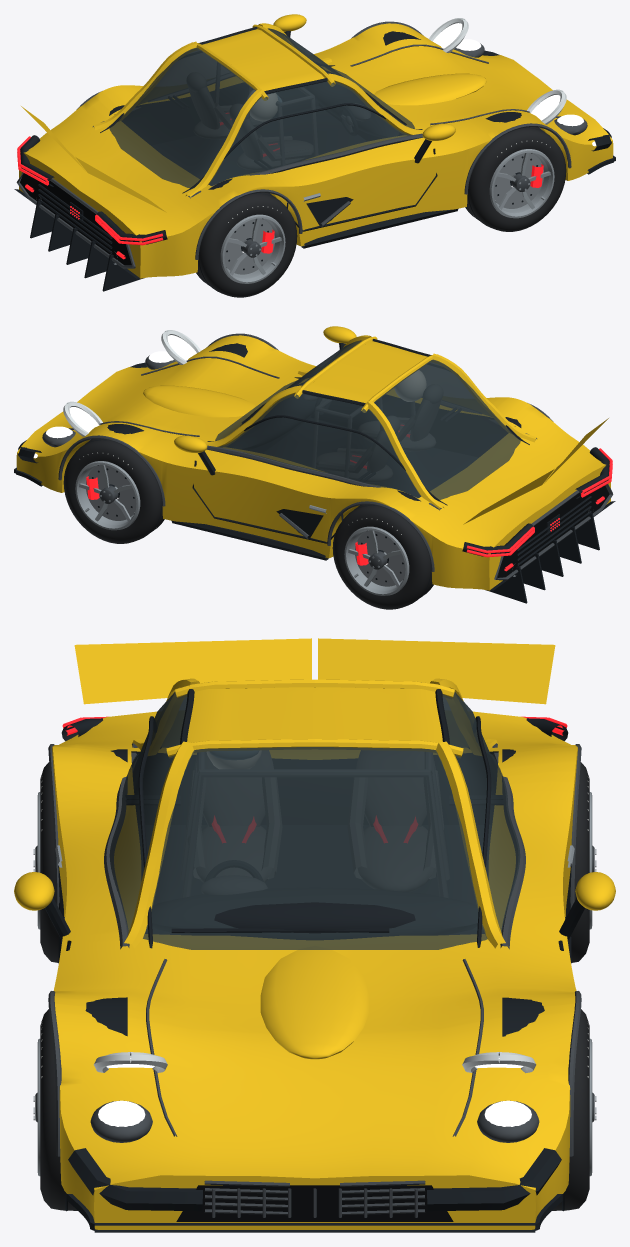
The model's file is fleet-4.glb.
3 renders of one model, top to bottom at view 1: azimuth 30°, elevation 25°; view 2: azimuth 150°, elevation 25°; view 3: azimuth 270°, elevation 25°, orthographic. The views are drawn at different scales.
Parts seen in each view (by area): view 1: GT_body, GT_glazing, GT_tyre, GT_cockpit_floor, GT_roof, GT_cockpit_tub, GT_roof_pillar.001, GT_alloy_disc, GT_diffuser_fin, GT_bonnet_power_bulge, GT_alloy_bead, GT_rear_fascia (+31 smaller); view 2: GT_body, GT_glazing, GT_tyre, GT_cockpit_floor, GT_cockpit_tub, GT_roof, GT_roof_pillar.001, GT_alloy_disc, GT_diffuser_fin, GT_bonnet_power_bulge, GT_alloy_bead, GT_dashboard (+31 smaller); view 3: GT_body, GT_glazing, GT_rear_spoiler, GT_dashboard, GT_roof, GT_tyre, GT_bonnet_power_bulge, GT_cockpit_floor, GT_roof_pillar.001, GT_cockpit_tub, GT_bucket_back, GT_headlight (+23 smaller).
Boxes of the visible parts, <box> form: GT_body: <box>19,23,613,278</box>; GT_glazing: <box>109,28,414,188</box>; GT_tyre: <box>197,127,566,297</box>; GT_cockpit_floor: <box>152,106,366,185</box>; GT_roof: <box>202,29,324,91</box>; GT_cockpit_tub: <box>114,67,402,144</box>; GT_roof_pillar.001: <box>93,23,424,197</box>; GT_alloy_disc: <box>224,153,543,274</box>; GT_diffuser_fin: <box>30,201,144,291</box>; GT_bonnet_power_bulge: <box>373,73,486,105</box>; GT_alloy_bead: <box>220,149,554,283</box>; GT_rear_fascia: <box>20,173,134,266</box>; GT_body: <box>16,335,610,590</box>; GT_glazing: <box>215,340,520,499</box>; GT_tyre: <box>63,439,432,609</box>; GT_cockpit_floor: <box>263,418,477,497</box>; GT_cockpit_tub: <box>227,379,515,456</box>; GT_roof: <box>305,341,427,403</box>; GT_roof_pillar.001: <box>205,335,536,509</box>; GT_alloy_disc: <box>86,465,405,586</box>; GT_diffuser_fin: <box>485,513,599,603</box>; GT_bonnet_power_bulge: <box>143,385,256,417</box>; GT_alloy_bead: <box>75,461,409,595</box>; GT_dashboard: <box>231,382,315,449</box>; GT_body: <box>52,711,577,1229</box>; GT_glazing: <box>109,682,520,949</box>; GT_rear_spoiler: <box>74,638,555,704</box>; GT_dashboard: <box>152,887,477,939</box>; GT_roof: <box>187,687,442,742</box>; GT_tyre: <box>40,762,589,1210</box>; GT_bonnet_power_bulge: <box>260,946,369,1059</box>; GT_cockpit_floor: <box>138,825,491,934</box>; GT_roof_pillar.001: <box>124,678,505,948</box>; GT_cockpit_tub: <box>131,751,498,824</box>; GT_bucket_back: <box>194,750,435,826</box>; GT_headlight: <box>68,1148,561,1211</box>.
Size of the model in its own units: 0.3439 by 0.1131 by 0.1928.
